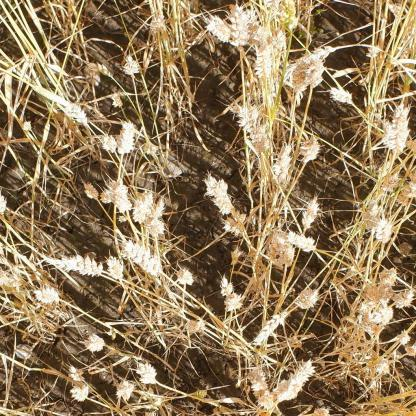whd: (284, 45, 336, 81), (276, 360, 316, 400), (123, 241, 162, 275), (256, 309, 288, 342), (390, 104, 411, 152), (228, 4, 251, 46), (59, 256, 103, 276), (203, 15, 230, 42), (253, 43, 272, 78), (274, 147, 294, 180), (279, 0, 299, 30), (248, 366, 268, 396), (286, 232, 316, 252), (118, 121, 135, 155), (302, 197, 320, 229), (294, 287, 319, 310), (138, 192, 154, 224), (304, 64, 325, 88), (300, 138, 320, 163), (268, 232, 286, 259), (136, 362, 158, 384), (293, 71, 317, 91), (329, 86, 354, 105), (375, 219, 394, 244), (204, 176, 226, 197), (383, 123, 399, 150), (36, 286, 60, 304), (116, 186, 132, 213), (231, 103, 263, 116), (392, 290, 415, 308), (67, 106, 87, 126), (362, 208, 379, 231), (367, 284, 391, 300), (107, 255, 123, 279), (116, 380, 135, 400), (278, 243, 294, 266), (382, 171, 400, 191), (70, 384, 90, 402), (84, 334, 104, 352), (214, 197, 234, 215), (86, 62, 111, 76), (245, 107, 260, 130), (122, 55, 140, 74), (222, 218, 241, 236), (374, 307, 393, 324), (311, 51, 325, 74), (252, 25, 269, 43), (380, 268, 397, 286), (359, 298, 378, 314), (251, 124, 268, 141), (260, 392, 276, 410), (177, 268, 193, 286), (224, 294, 242, 310), (148, 218, 163, 237), (248, 6, 260, 29), (134, 199, 146, 222), (271, 31, 286, 49), (110, 181, 122, 203), (238, 106, 250, 128), (101, 136, 117, 152), (69, 366, 84, 382), (150, 15, 164, 32), (402, 181, 416, 198), (221, 276, 232, 297), (84, 184, 99, 199), (274, 378, 288, 394), (186, 320, 204, 332), (376, 359, 390, 374), (152, 199, 165, 215), (293, 64, 307, 78), (398, 331, 411, 345), (9, 273, 21, 288), (257, 136, 268, 152), (363, 314, 374, 330), (264, 0, 280, 11), (0, 270, 10, 287), (396, 193, 409, 206), (366, 45, 380, 57), (100, 190, 112, 204), (232, 210, 247, 221), (231, 250, 242, 265), (0, 190, 7, 213), (388, 3, 402, 14), (144, 142, 156, 154), (313, 408, 331, 416), (113, 93, 123, 107), (193, 390, 207, 399), (218, 180, 229, 190), (22, 120, 32, 131), (405, 346, 415, 356), (152, 396, 162, 406), (107, 330, 116, 340), (412, 140, 416, 160), (118, 216, 127, 223), (140, 395, 150, 400), (412, 169, 416, 180), (406, 141, 412, 148), (147, 388, 154, 394)
